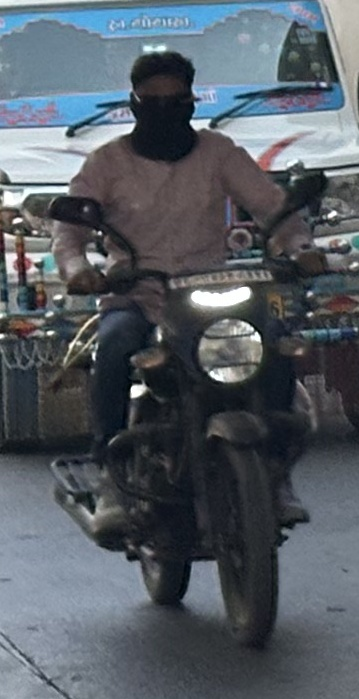BikeWithRider: (34, 42, 355, 657)
NoHelmet: (115, 42, 211, 145)
